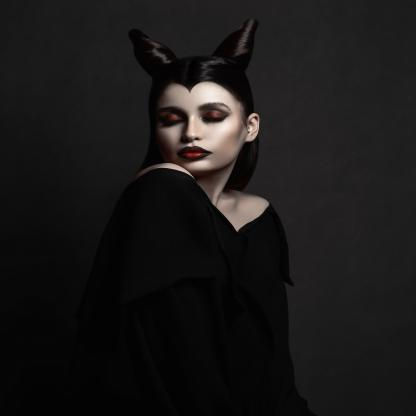Eye: (201, 111, 229, 122), (160, 115, 184, 125)
Mouth: (176, 146, 212, 160)
Nose: (182, 120, 204, 142)
